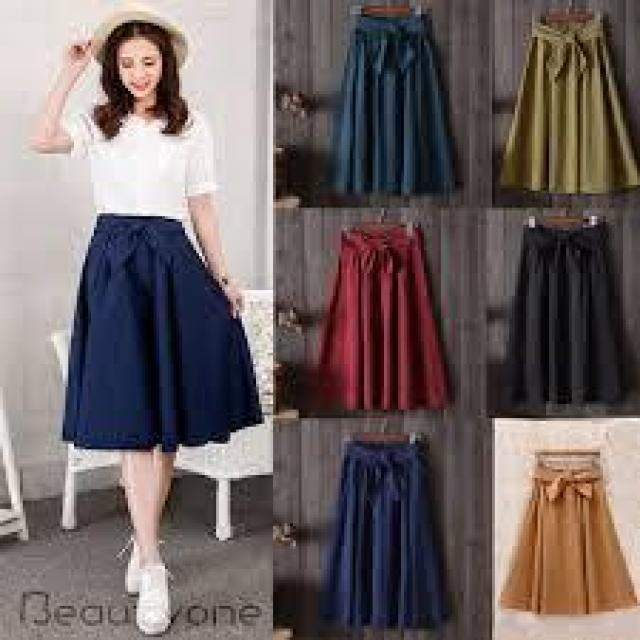Tshirt: (68, 98, 216, 223)
skirt: (70, 214, 254, 473), (327, 10, 467, 203), (320, 441, 454, 640), (317, 223, 451, 414), (504, 225, 634, 421), (502, 13, 630, 206), (508, 455, 633, 623)
